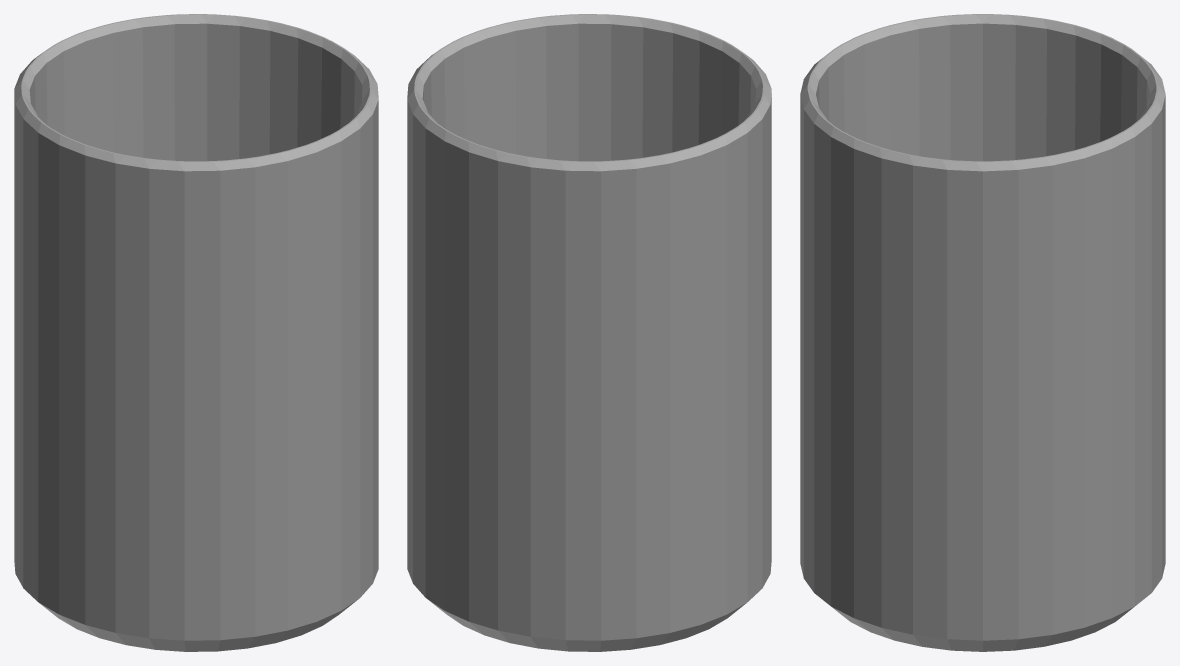
File: Bin Body.obj
3 views of the same model, side by side, from view 1: azimuth 30°, elevation 25°; view 2: azimuth 150°, elevation 25°; view 3: azimuth 270°, elevation 25° (orthographic).
Visible parts, largest first — view 1: Cylinder; view 2: Cylinder; view 3: Cylinder.
Part boxes in pixels (left/top/right/bottom): Cylinder: left=14, top=14, right=378, bottom=651; Cylinder: left=407, top=14, right=771, bottom=651; Cylinder: left=800, top=14, right=1165, bottom=651.
Bounding box in the file's own units: 2 × 3 × 2.
